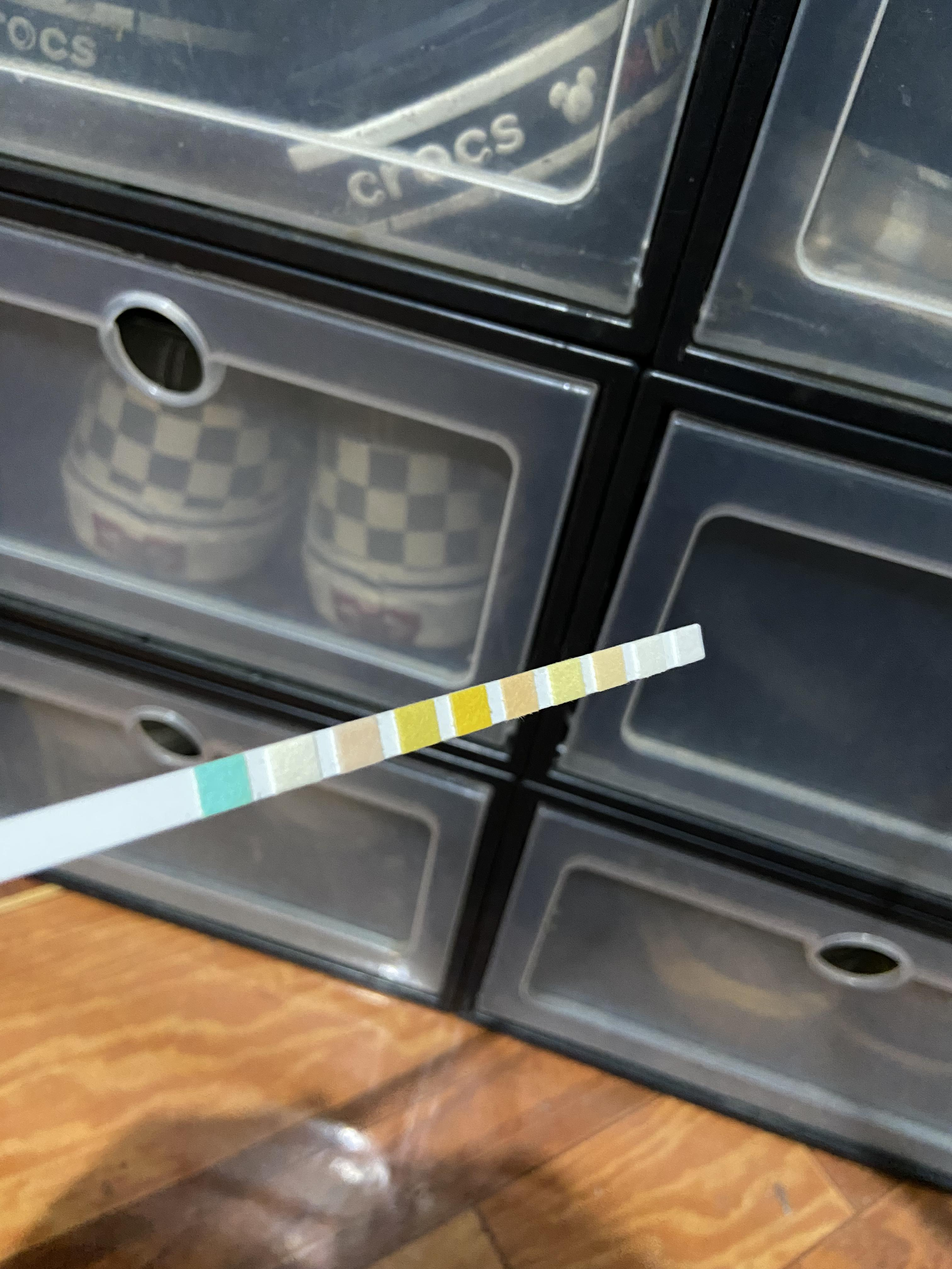Bilirubin: (275, 744, 315, 782)
Blood: (455, 692, 487, 727)
Glucose: (201, 765, 248, 804)
Ketone: (343, 724, 377, 762)
Leukocytes: (681, 629, 700, 659)
Nitrite: (640, 640, 663, 671)
Protein: (553, 664, 581, 696)
SpGravity: (400, 708, 435, 744)
Urobilinogen: (598, 651, 623, 684)
pH: (506, 678, 534, 712)
strip: (0, 622, 706, 881)
